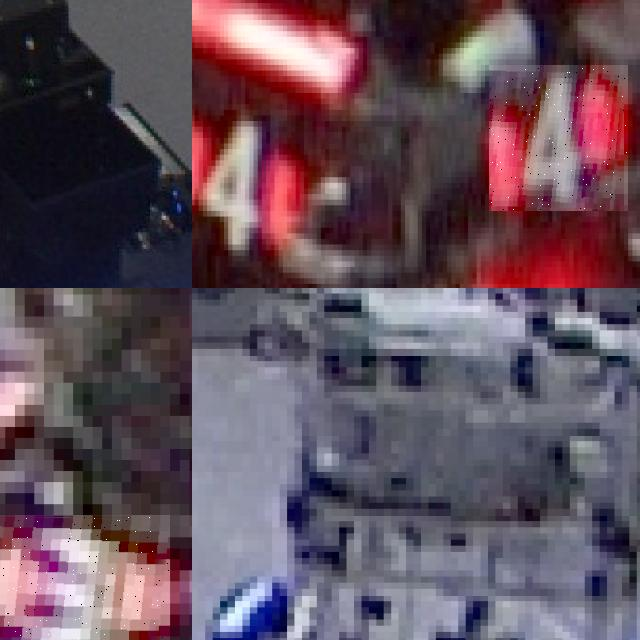R3: (0, 515, 170, 640)
R4: (489, 65, 628, 211), (192, 110, 291, 256)
